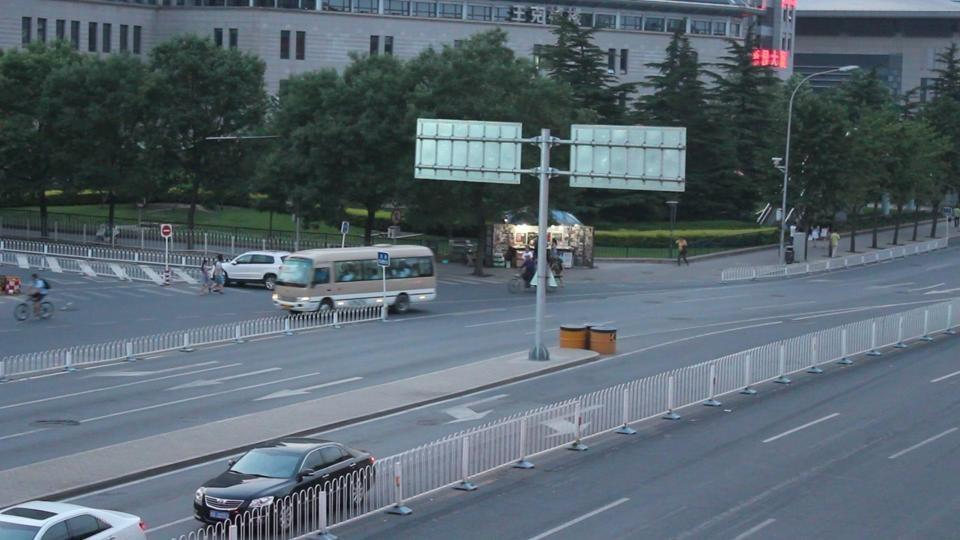car: (191, 439, 377, 525), (270, 244, 437, 318), (0, 498, 148, 539), (218, 251, 291, 290)
